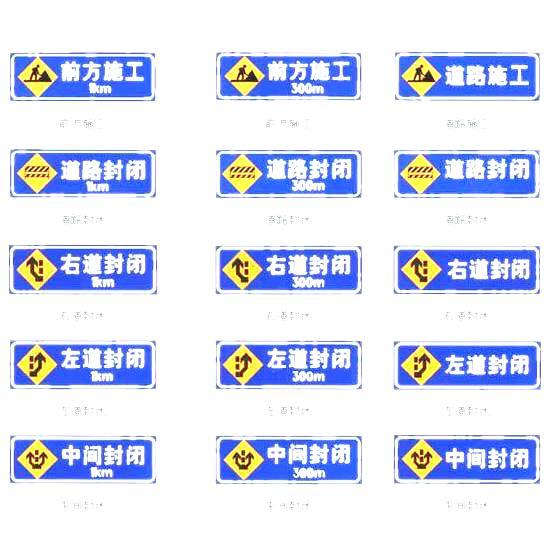sign: (392, 434, 539, 483), (9, 341, 153, 390), (217, 148, 360, 197), (9, 151, 154, 198), (11, 246, 155, 293), (217, 436, 361, 483), (396, 246, 537, 294), (8, 54, 155, 100), (216, 50, 359, 97), (395, 150, 537, 197), (218, 245, 361, 291), (215, 341, 361, 386), (395, 54, 537, 100), (11, 438, 155, 483), (395, 344, 540, 387)
